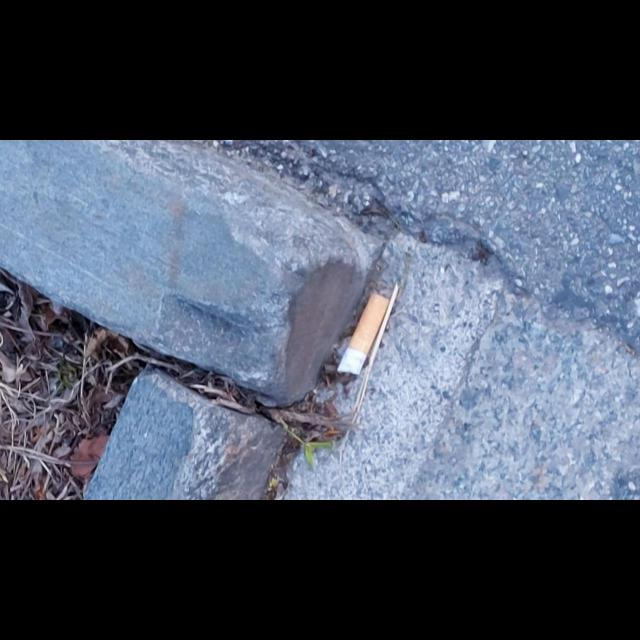cigarette: (336, 293, 390, 377)
